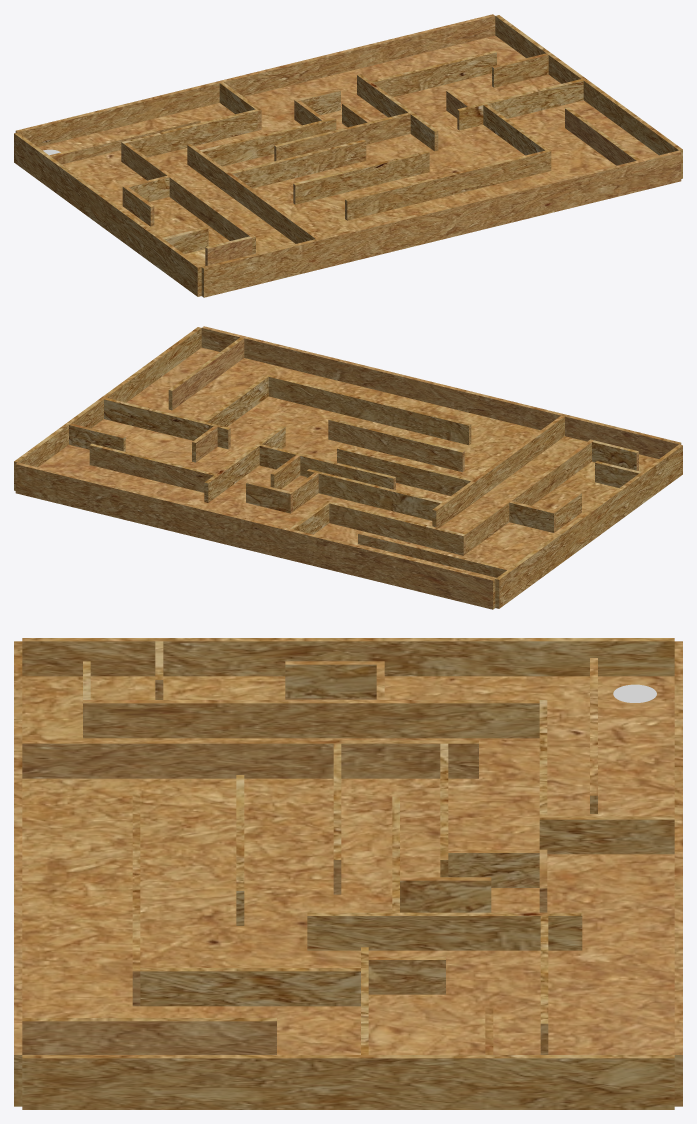
Rendered from board.dae.
The picture shows the model from 3 angles, top to bottom: view 1: azimuth 30°, elevation 25°; view 2: azimuth 150°, elevation 25°; view 3: azimuth 270°, elevation 25°; orthographic projection. The views are drawn at different scales.
Parts seen in each view (by area): view 1: board; view 2: board; view 3: board.
Part boxes in pixels (left/top/right/bottom): board: left=14, top=14, right=682, bottom=297; board: left=14, top=326, right=682, bottom=609; board: left=14, top=638, right=682, bottom=1109.
Size of the model in its own units: 15.24 by 10.25 by 0.8739.
1 material, 1 textured.
